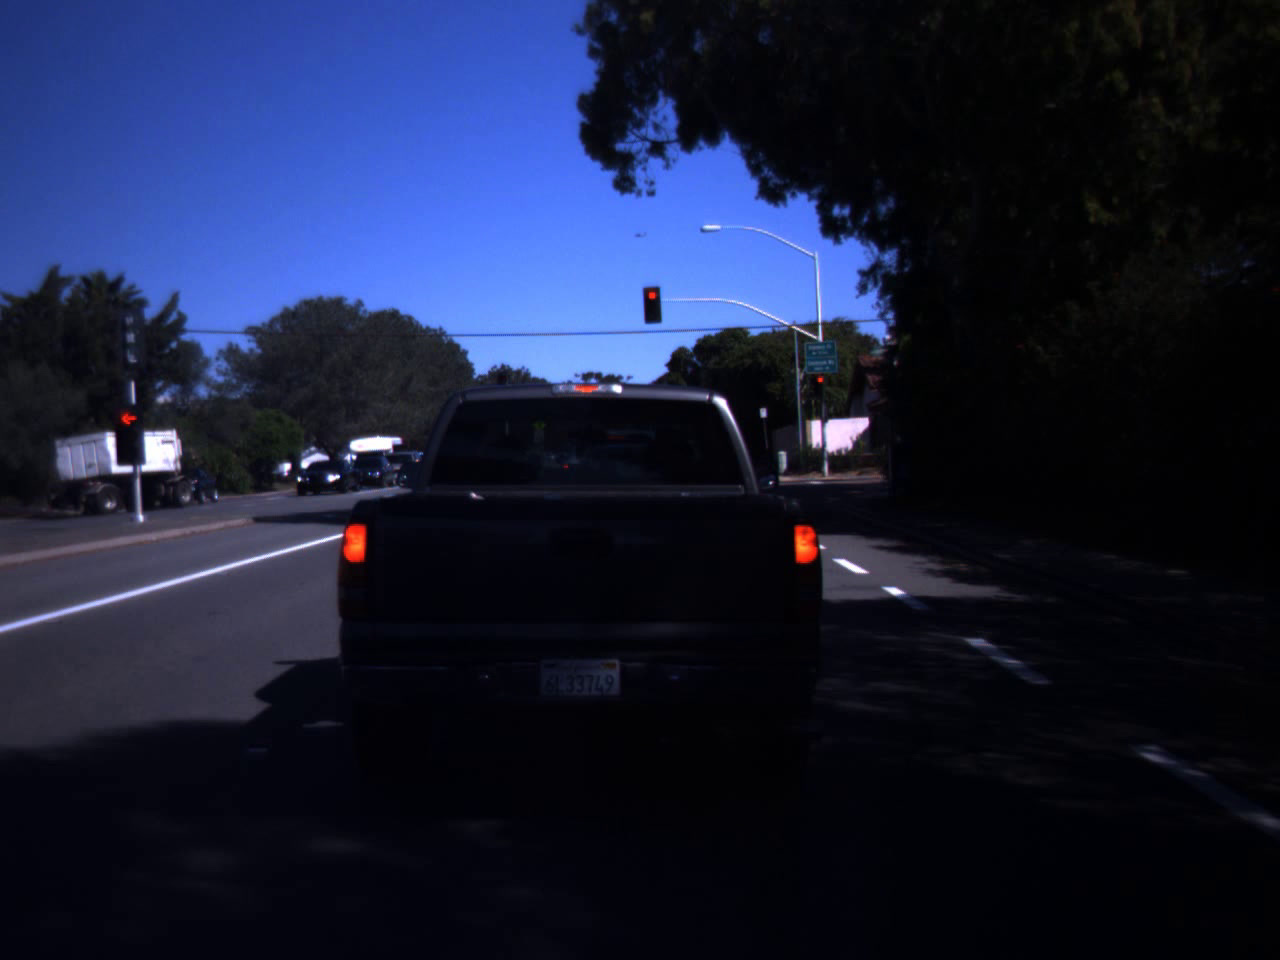stop: (112, 400, 157, 467), (642, 289, 663, 316), (814, 376, 826, 394)
